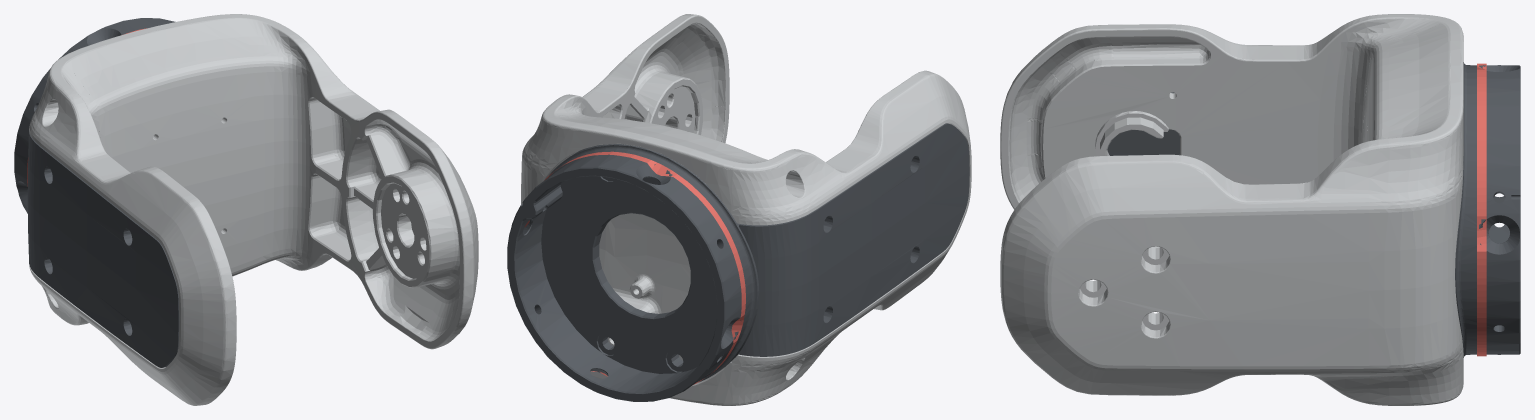
Rendered from wrist_roll.glb.
The picture shows the model from 3 angles, left to right: view 1: azimuth 30°, elevation 25°; view 2: azimuth 150°, elevation 25°; view 3: azimuth 270°, elevation 25°; orthographic projection. The views are drawn at different scales.
Visible parts, largest first — view 1: arm_wrist_roll; view 2: arm_wrist_roll, Wrist red seam; view 3: arm_wrist_roll, Wrist red seam.
Boxes of the visible parts, bbox=[...] form: arm_wrist_roll: bbox=[14, 14, 478, 405]; arm_wrist_roll: bbox=[507, 14, 971, 405]; Wrist red seam: bbox=[524, 151, 745, 384]; arm_wrist_roll: bbox=[1000, 14, 1520, 405]; Wrist red seam: bbox=[1477, 63, 1486, 356].
Bounding box in the file's own units: 0.0828 × 0.067 × 0.1096.
